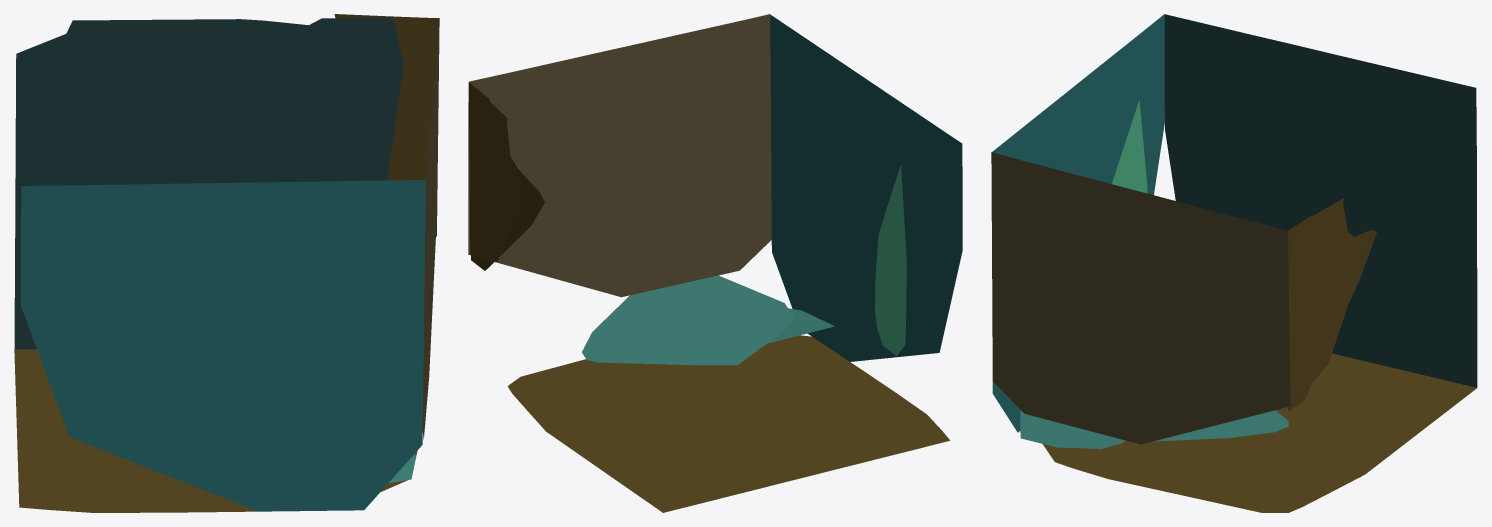
The model's file is PlanarRecon-7bc286c1b6.glb.
3 renders of one model, left to right at view 1: azimuth 30°, elevation 25°; view 2: azimuth 150°, elevation 25°; view 3: azimuth 270°, elevation 25°, orthographic. The views are drawn at different scales.
Parts seen in each view (by area): view 1: piecewise-PlanarRecon-scene2007_00-lean; view 2: piecewise-PlanarRecon-scene2007_00-lean; view 3: piecewise-PlanarRecon-scene2007_00-lean.
Part boxes in pixels (box(x1,y1,x2,y2)): piecewise-PlanarRecon-scene2007_00-lean: box(14, 14, 439, 512); piecewise-PlanarRecon-scene2007_00-lean: box(468, 14, 962, 512); piecewise-PlanarRecon-scene2007_00-lean: box(991, 14, 1477, 512).
Bounding box in the file's own units: 3.07 × 2 × 2.91.
